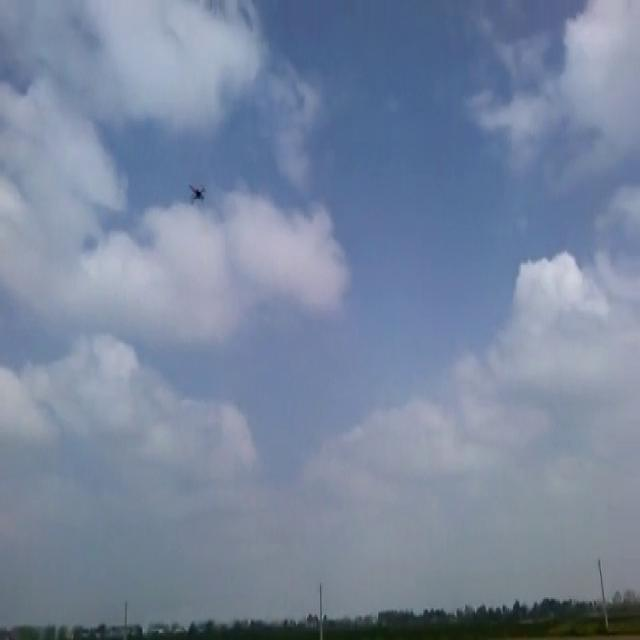drone: (186, 176, 208, 208)
